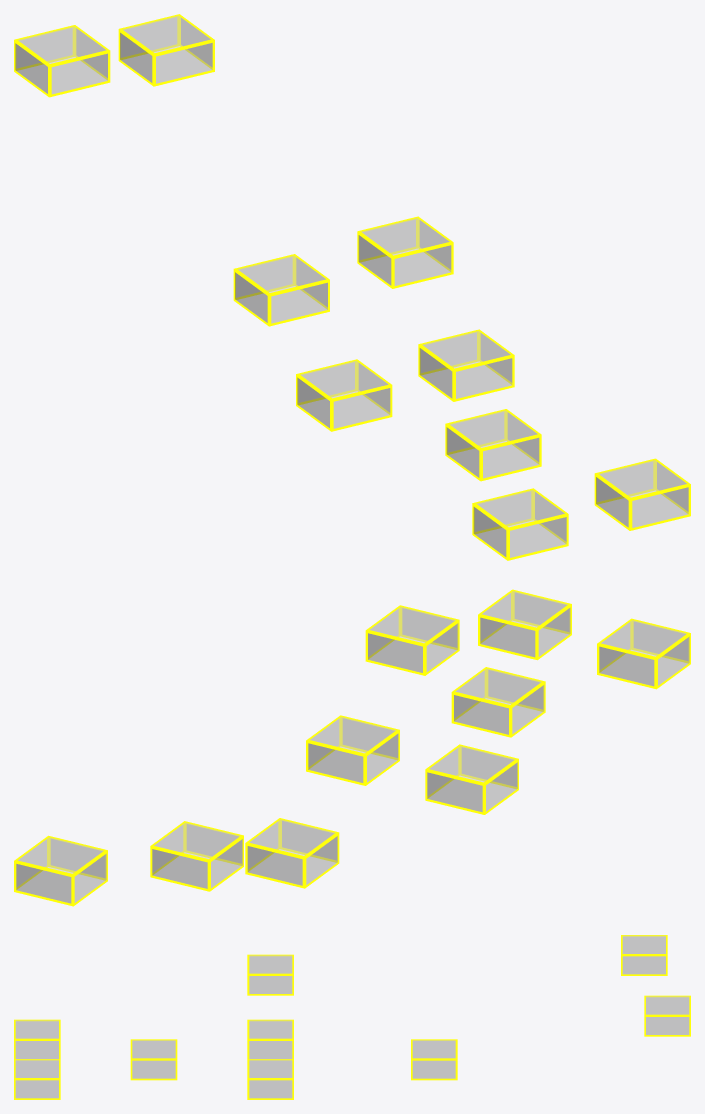
The model's file is (2)H Plat.fbx.
3 views of the same model, one above another, from view 1: azimuth 30°, elevation 25°; view 2: azimuth 150°, elevation 25°; view 3: azimuth 270°, elevation 25° (orthographic). The views are drawn at different scales.
Visible parts, largest first — view 1: Platform.005, Platform.007, Platform.004, Platform.009, Platform.011, Platform.006, Platform.010, Platform.002, Platform.003; view 2: Platform.005, Platform.009, Platform.004, Platform.007, Platform.002, Platform.010, Platform.003, Platform.006, Platform.011; view 3: Platform.004, Platform.005, Platform.009, Platform.011, Platform.003, Platform.006, Platform.010, Platform.002, Platform.007.
Part boxes in pixels (<box>): Platform.005: <box>357,216,453,288</box>; Platform.007: <box>296,359,392,431</box>; Platform.004: <box>445,409,541,481</box>; Platform.009: <box>233,254,329,326</box>; Platform.011: <box>118,14,214,86</box>; Platform.006: <box>418,329,514,401</box>; Platform.010: <box>14,25,110,97</box>; Platform.002: <box>472,488,568,560</box>; Platform.003: <box>594,458,690,530</box>; Platform.005: <box>365,605,459,675</box>; Platform.009: <box>245,818,339,888</box>; Platform.004: <box>451,667,545,737</box>; Platform.007: <box>425,744,518,814</box>; Platform.002: <box>597,618,690,689</box>; Platform.010: <box>150,821,243,891</box>; Platform.003: <box>478,589,571,660</box>; Platform.006: <box>306,715,399,785</box>; Platform.011: <box>14,835,107,906</box>; Platform.004: <box>130,1039,177,1080</box>; Platform.005: <box>247,954,293,995</box>; Platform.009: <box>411,1039,457,1080</box>; Platform.011: <box>644,995,690,1036</box>; Platform.003: <box>14,1059,60,1099</box>; Platform.006: <box>247,1059,293,1099</box>; Platform.010: <box>621,935,667,975</box>; Platform.002: <box>14,1019,60,1058</box>; Platform.007: <box>247,1019,293,1058</box>.
Bounding box in the file's own units: 600 × 500 × 2900.
